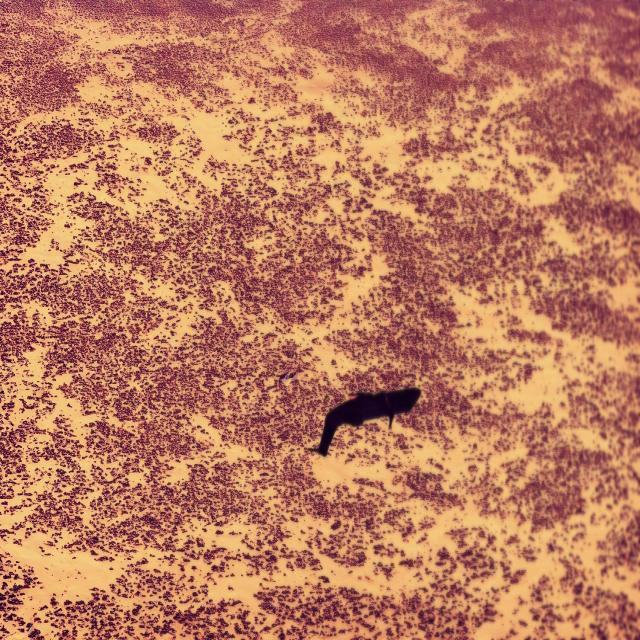airplane: (316, 385, 422, 457)
